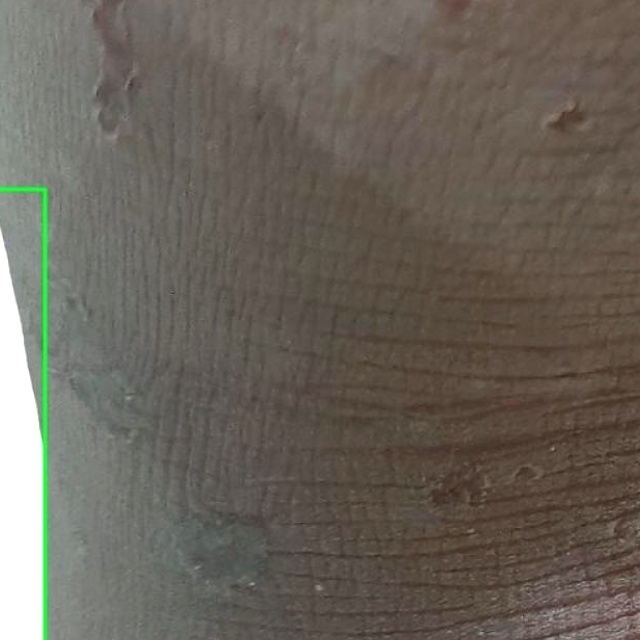Contact Dermatitis: (0, 190, 45, 639)
